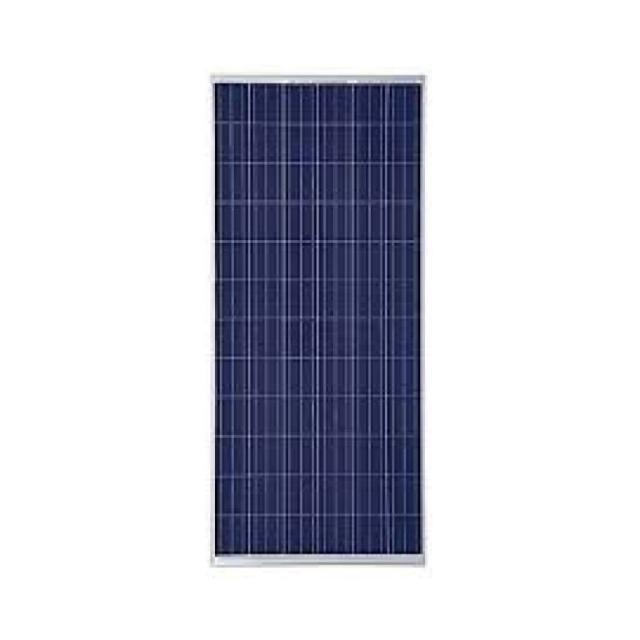clean-solar-panel: (214, 77, 424, 562)
